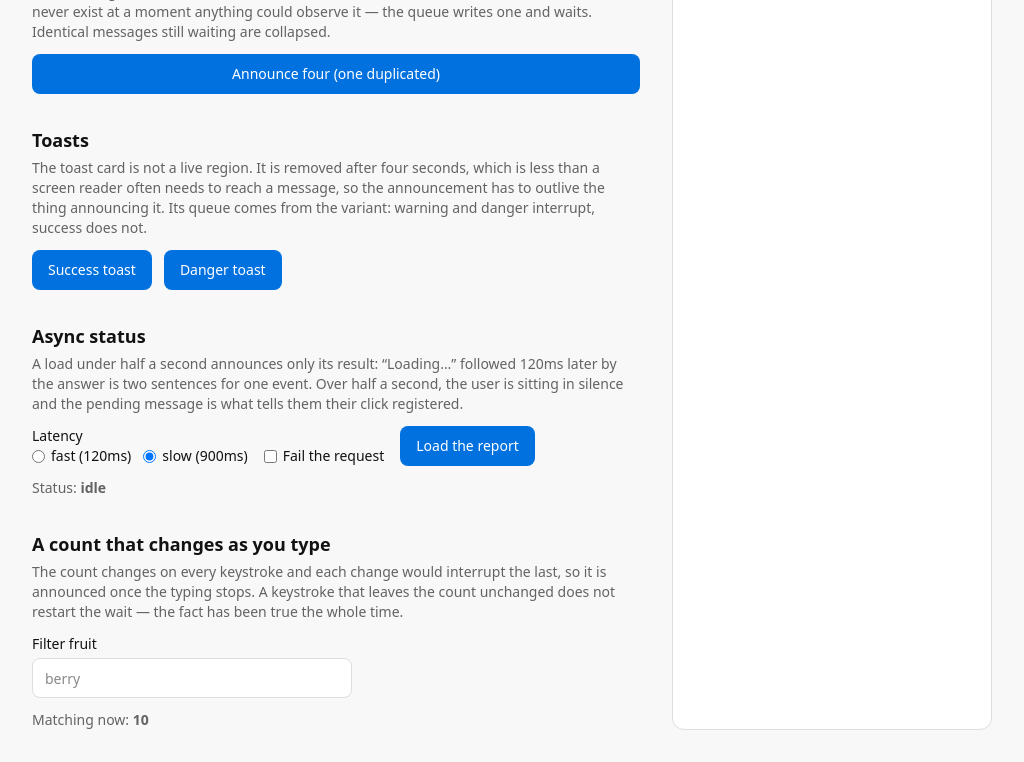
Test: <LiveRegionsLabPage> › says only the result for a load that finishes inside the delay
(page scrolled)
Step 1. Click the radio button labelled "fast (120ms)" → coordinates (38, 456), box [32,450,45,462]
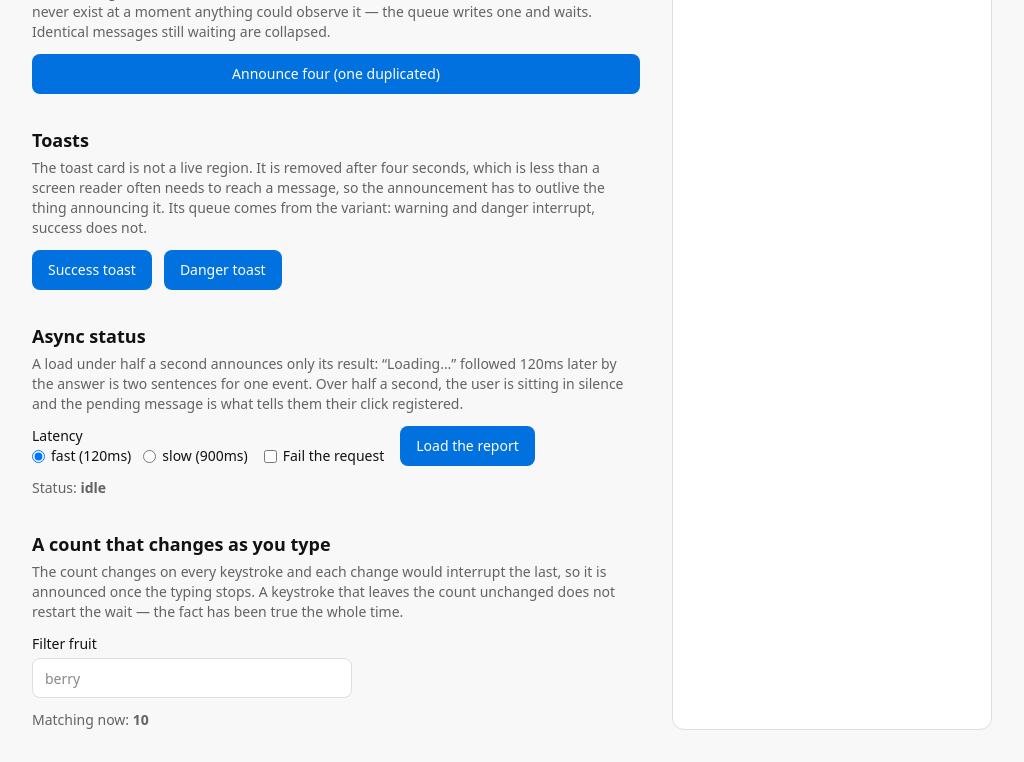
Step 2. Click the button with test id "run-query" → coordinates (468, 446), box [400,426,535,466]
Wait 200 ms
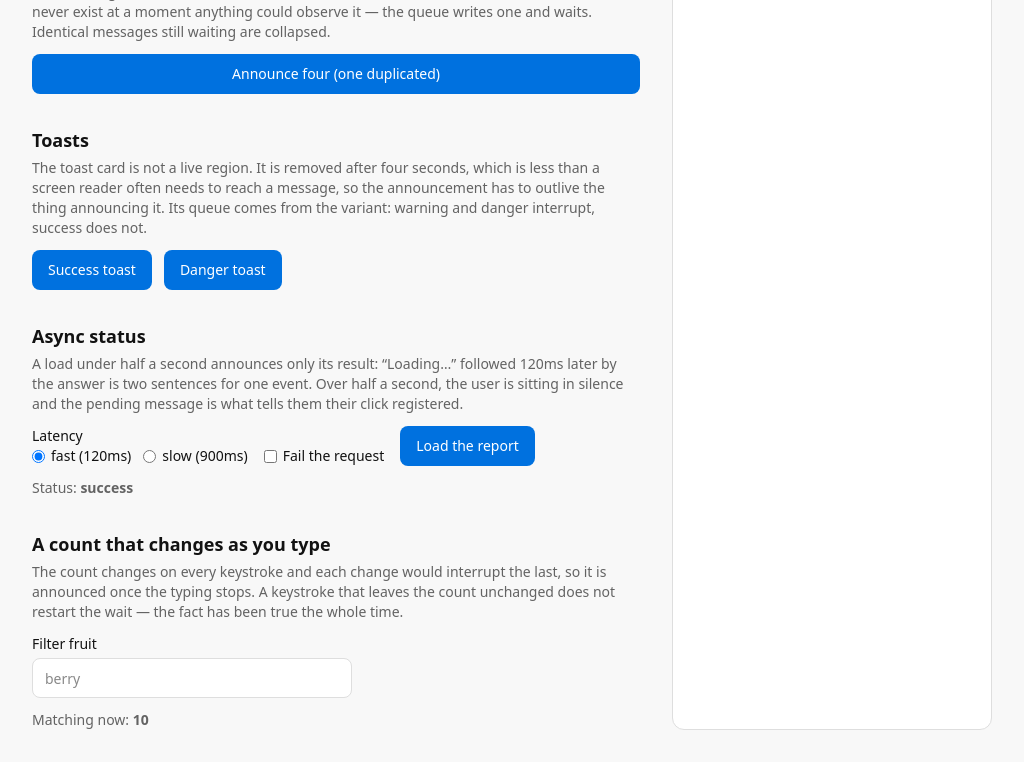
Result: the text with test id "query-status" reads "success" at [80,478,133,497]
